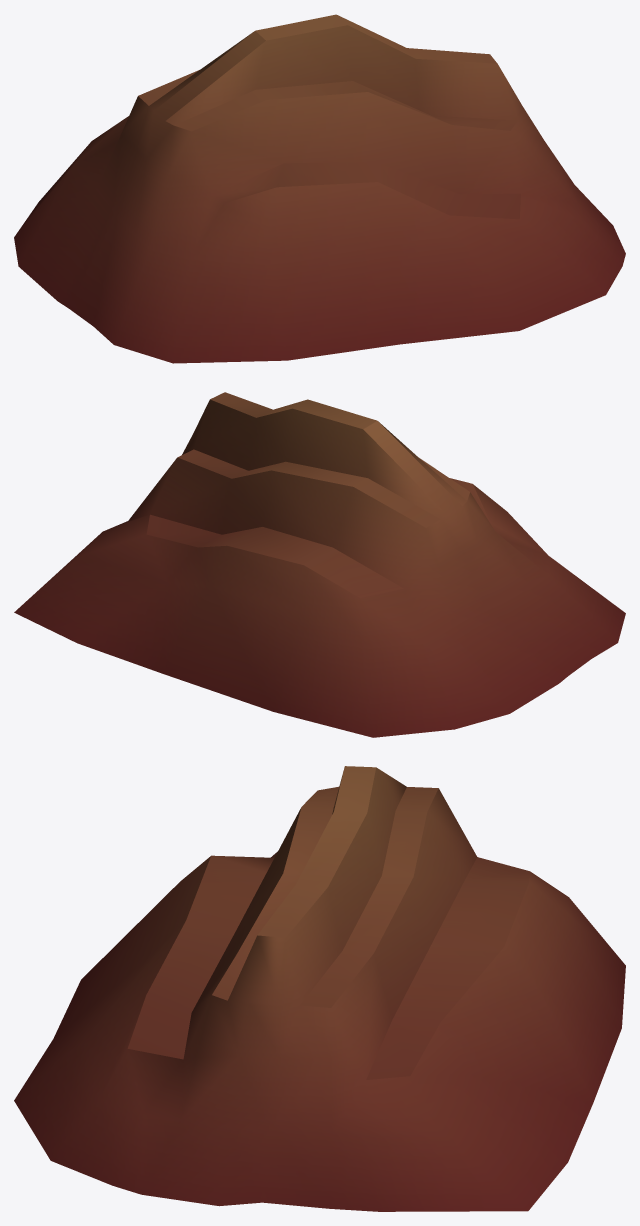
File: Mountain_big.013.fbx
3 renders of one model, top to bottom at view 1: azimuth 30°, elevation 25°; view 2: azimuth 150°, elevation 25°; view 3: azimuth 270°, elevation 25°, orthographic. The views are drawn at different scales.
Visible parts, largest first — view 1: Mountain_big.013; view 2: Mountain_big.013; view 3: Mountain_big.013.
Part boxes in pixels (bbox=[...]): Mountain_big.013: bbox=[14, 14, 625, 363]; Mountain_big.013: bbox=[14, 392, 625, 737]; Mountain_big.013: bbox=[14, 766, 625, 1211].
Size of the model in its own units: 554 by 229 by 478.
